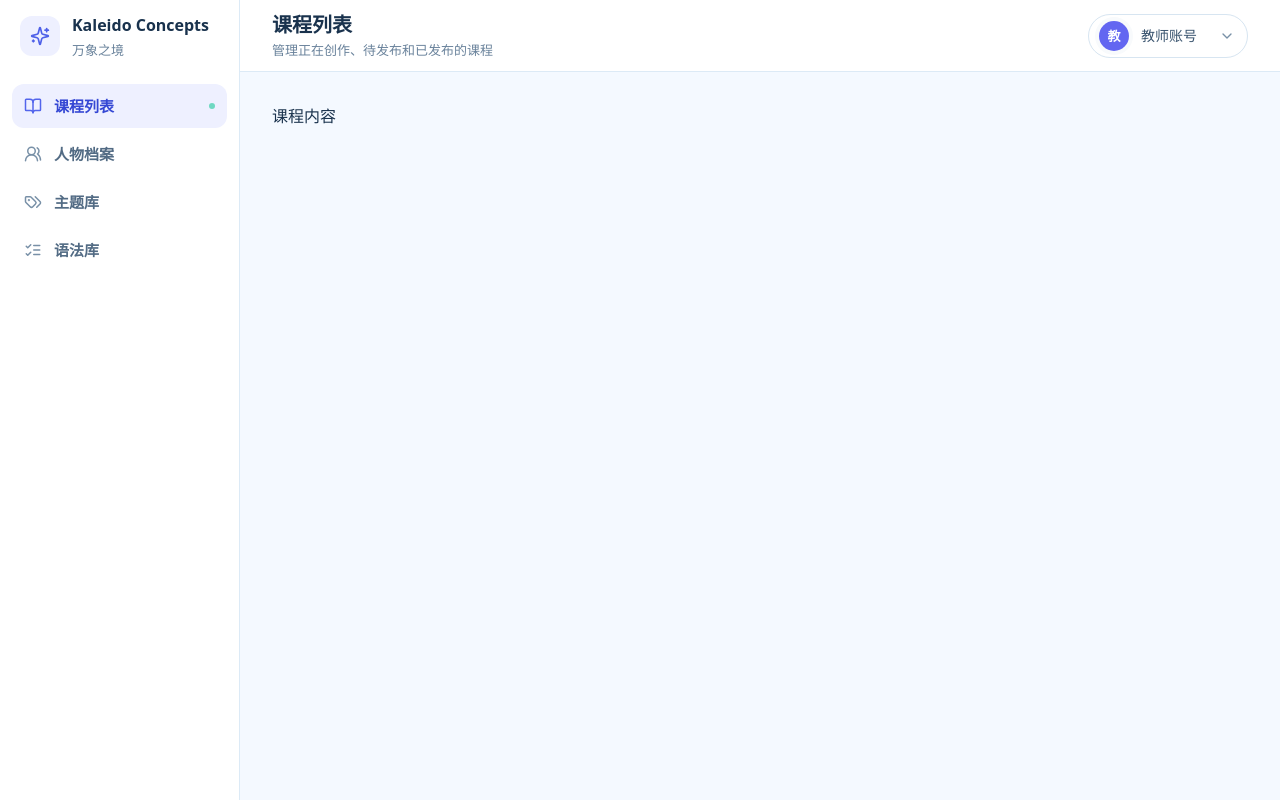
Test: AppShell account menu › loads saved settings and exposes compatible providers through selects
Click the button with aria-label "用户菜单": (1168, 36) top-left (1088, 14), bottom-right (1248, 58)
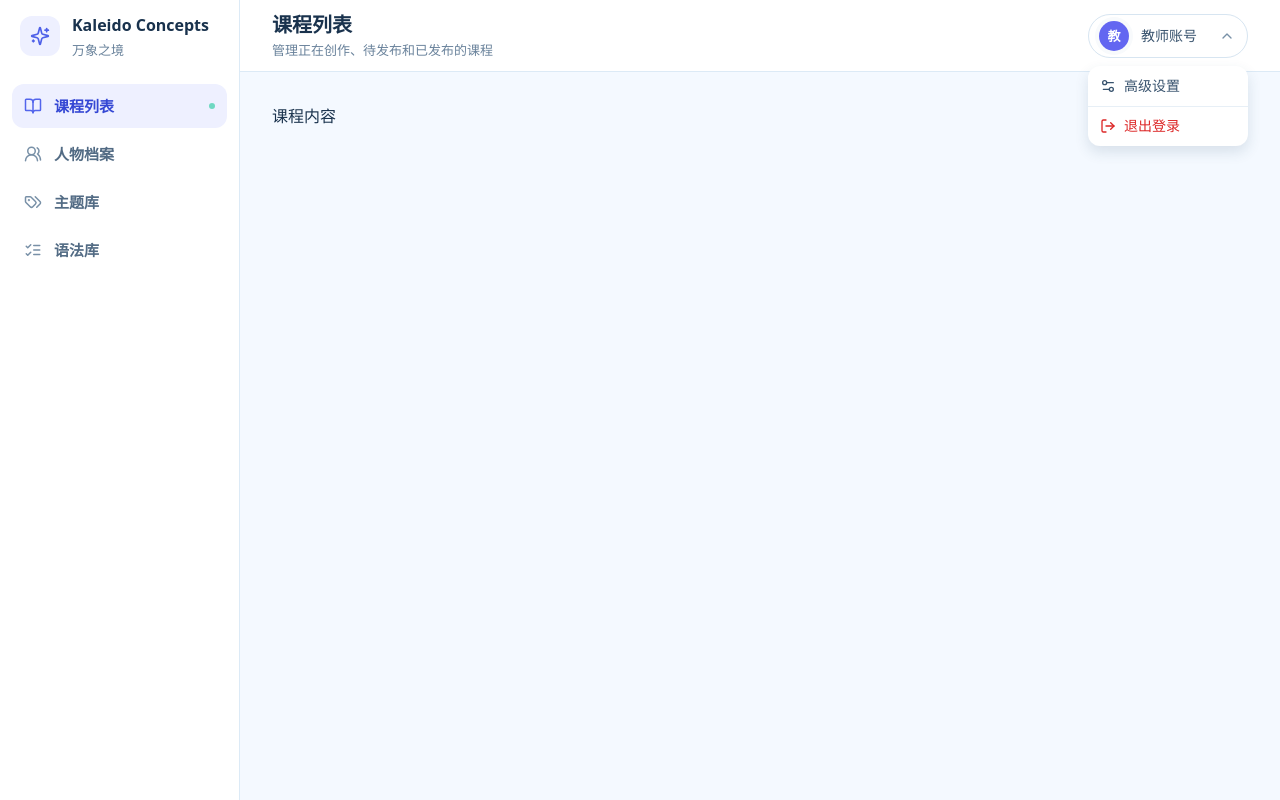
Click the button "高级设置": (1168, 86) top-left (1088, 66), bottom-right (1248, 106)
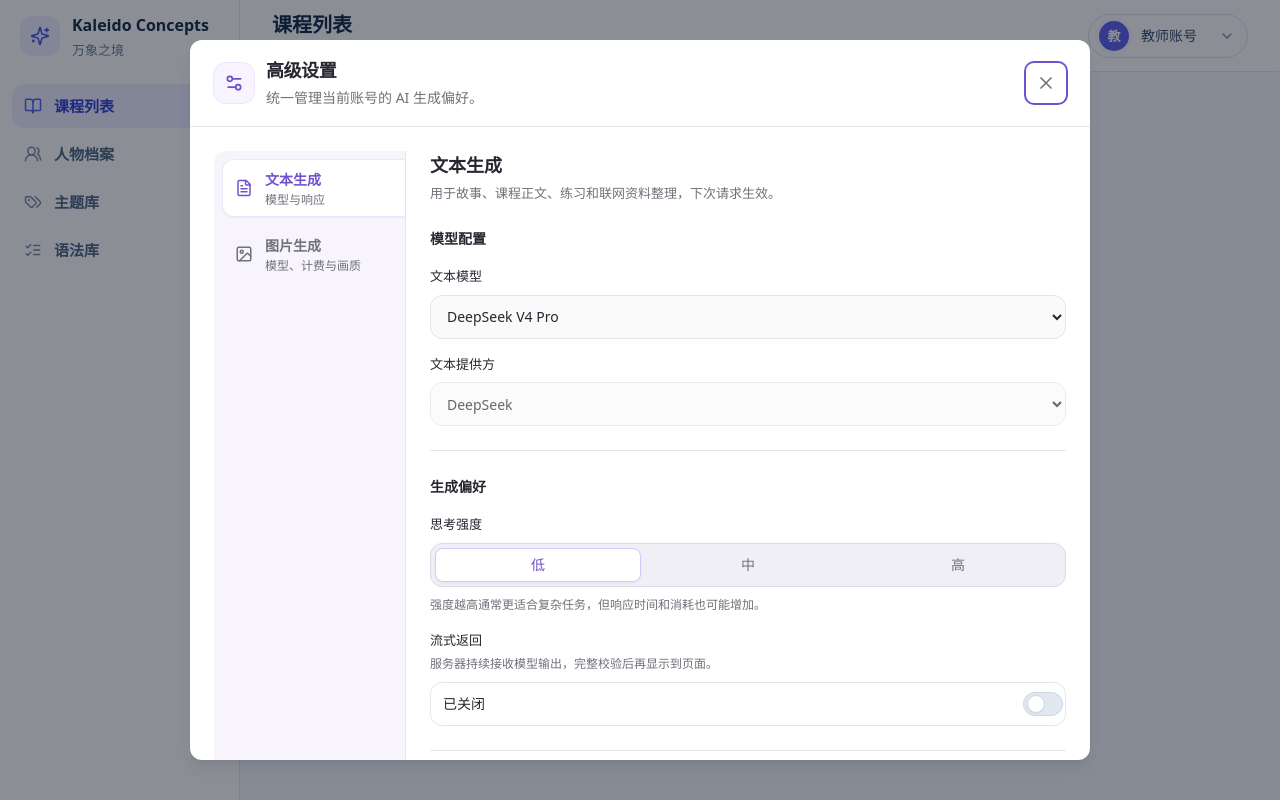
Expected: the dropdown labelled "文本模型" shows "DeepSeek V4 Pro", top-left (430, 294), bottom-right (1066, 338)
Expected: the dropdown labelled "文本提供方" shows "DeepSeek", top-left (430, 382), bottom-right (1066, 426)
Click the button "图片生成 模型、计费与画质": (314, 254) top-left (222, 225), bottom-right (405, 283)
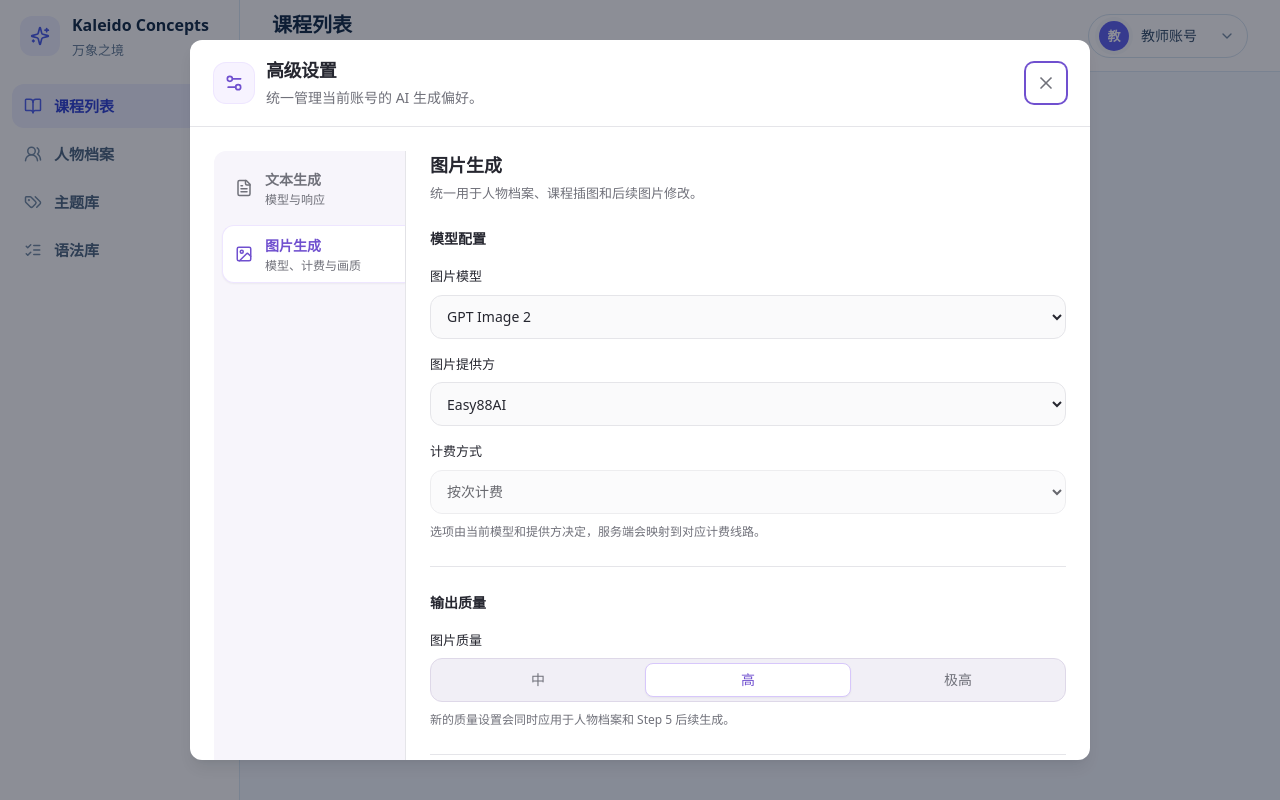
Expected: the dropdown labelled "图片提供方" shows "Easy88AI", top-left (430, 382), bottom-right (1066, 426)
